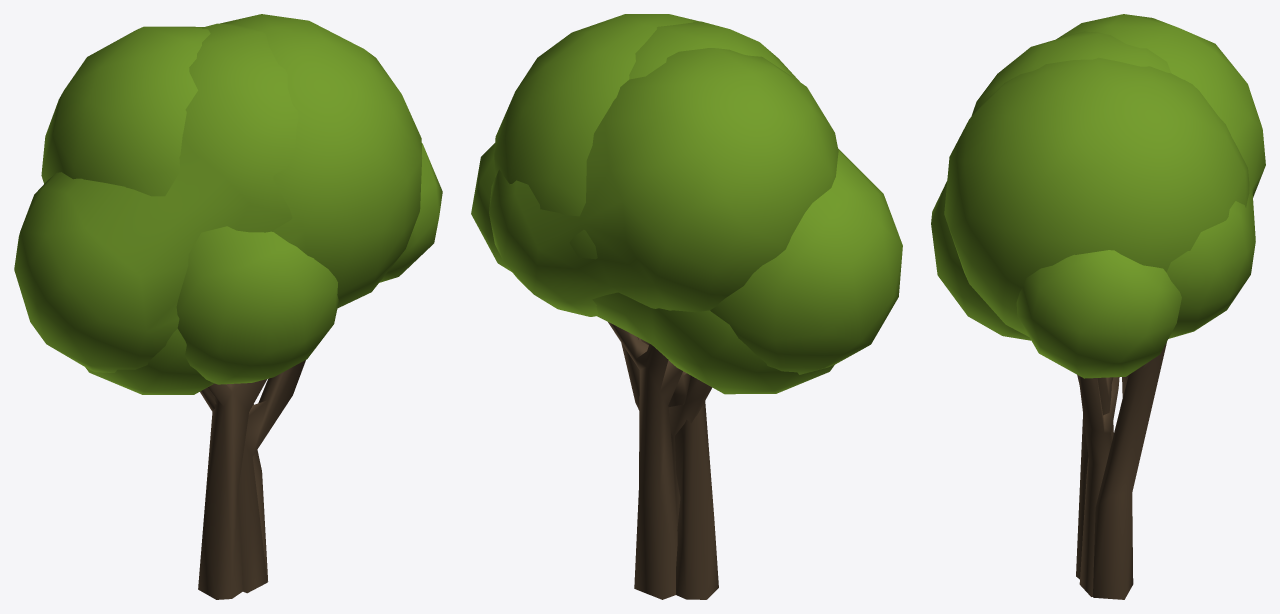
The model's file is trees.glb.
3 views of the same model, side by side, from view 1: azimuth 30°, elevation 25°; view 2: azimuth 150°, elevation 25°; view 3: azimuth 270°, elevation 25° (orthographic). The views are drawn at different scales.
Visible parts, largest first — view 1: T_2, T_1, T_3; view 2: T_3, T_1, T_2; view 3: T_1, T_3, T_2.
Boxes of the visible parts, bbox=[...] form: T_2: bbox=[14, 23, 442, 593]; T_1: bbox=[85, 14, 422, 599]; T_3: bbox=[41, 26, 338, 581]; T_3: bbox=[489, 48, 838, 599]; T_1: bbox=[494, 14, 834, 599]; T_2: bbox=[471, 21, 902, 525]; T_1: bbox=[944, 57, 1249, 579]; T_3: bbox=[931, 14, 1265, 599]; T_2: bbox=[971, 31, 1181, 596].
Size of the model in its own units: 0.7665 by 1 by 0.5636.
